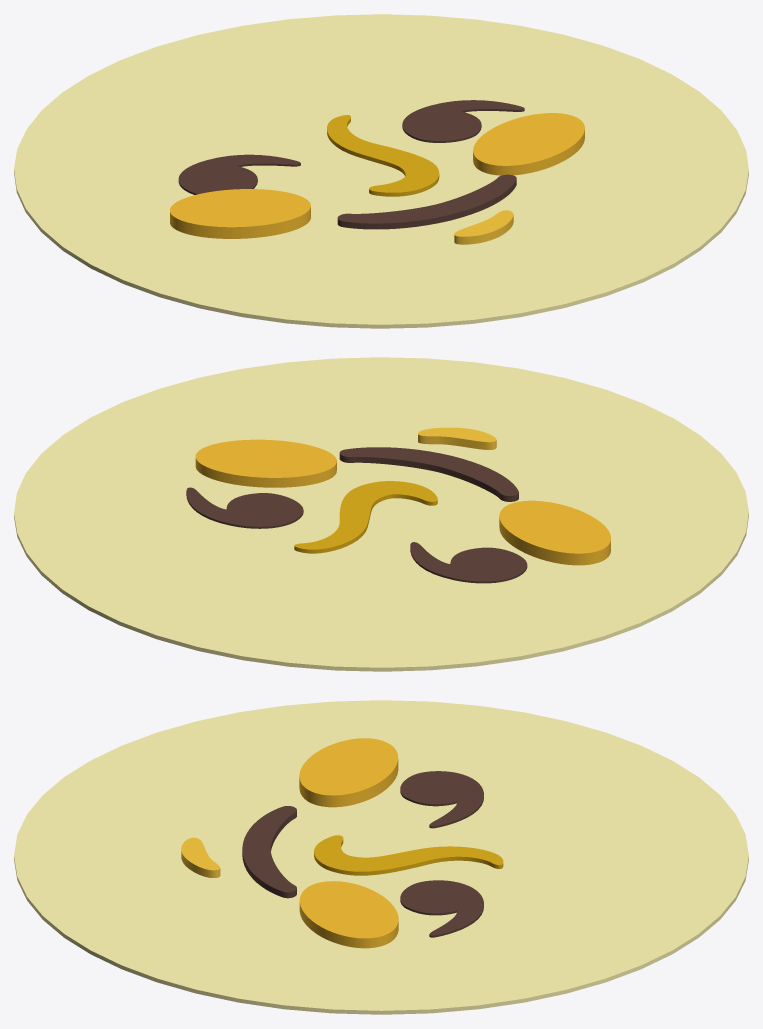
File: emoji_u1f31d.glb
3 renders of one model, top to bottom at view 1: azimuth 30°, elevation 25°; view 2: azimuth 150°, elevation 25°; view 3: azimuth 270°, elevation 25°, orthographic.
Visible parts, largest first — view 1: emoji_u1f31d; view 2: emoji_u1f31d; view 3: emoji_u1f31d.
Boxes of the visible parts, box(x1,y1,x2,y2) form: emoji_u1f31d: box(14, 14, 748, 328); emoji_u1f31d: box(14, 357, 748, 671); emoji_u1f31d: box(14, 700, 748, 1014).
Size of the model in its own units: 0.0339 by 0.0014 by 0.0339.
